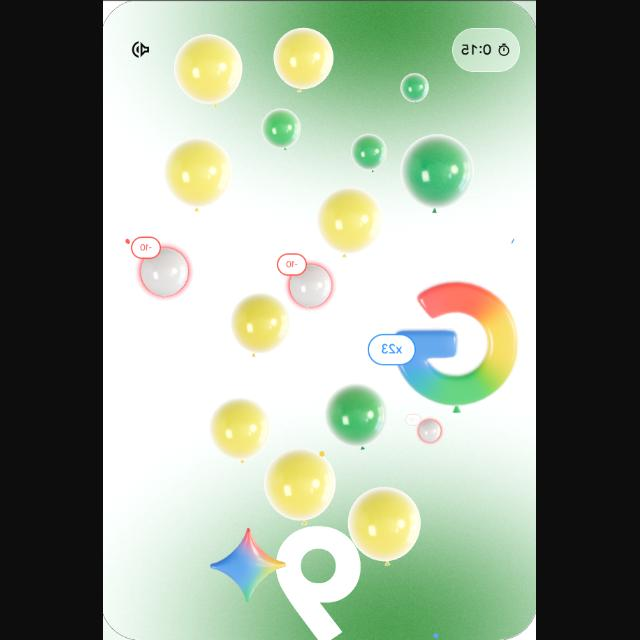gemini: (206, 528, 288, 602)
hazard: (126, 232, 200, 302), (276, 250, 340, 318), (411, 413, 447, 447)
safe: (260, 446, 342, 528), (344, 484, 424, 564), (172, 31, 248, 115), (400, 134, 472, 214), (311, 184, 387, 258), (262, 25, 342, 95), (164, 134, 232, 212), (205, 396, 272, 462), (229, 292, 291, 358), (326, 382, 382, 452), (258, 102, 308, 152), (348, 135, 390, 171), (396, 74, 432, 104)
super_g: (366, 276, 526, 414)
